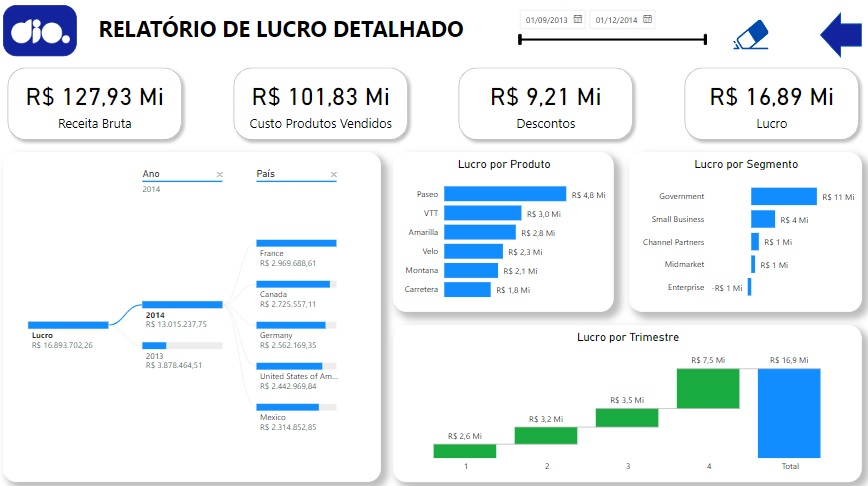

Layout of this report page (visuals, bound fields, positions):
{"tool":"powerbi","page":{"name":"Lucro","canvas":[1280,720],"ordinal":1},"visuals":[{"type":"cardVisual","title":"Receita Bruta","fields":{"Data":["_Medidas.$ Receita_Bruta"]},"box":[0,86.3,289.8,140.5],"z":0},{"type":"cardVisual","title":"Receita Bruta","fields":{"Data":["_Medidas.$ Lucro"]},"box":[990.2,86.3,289.8,140.5],"z":1000},{"type":"cardVisual","title":"Receita Bruta","fields":{"Data":["_Medidas.$ Descontos"]},"box":[660.5,86.3,289.8,140.5],"z":2000},{"type":"cardVisual","title":"Receita Bruta","fields":{"Data":["_Medidas.$ CPV"]},"box":[330.2,86.3,289.8,140.5],"z":3000},{"type":"clusteredBarChart","fields":{"Category":["Vendas.Segment"],"Y":["_Medidas.$ Lucro"]},"box":[926.3,226.8,341,234.1],"z":5000},{"type":"image","box":[10.2,11.7,108.3,74.6],"z":8000},{"type":"textbox","box":[144.9,19,560.5,61.5],"z":9000},{"type":"slicer","fields":{"Values":["Vendas.Date"]},"box":[753.7,8.8,300,80.5],"z":10000},{"type":"image","box":[1074.1,20.5,61.5,68.8],"z":11000},{"type":"shape","box":[1205.9,22,61.5,67.3],"z":12000},{"type":"decompositionTreeVisual","fields":{"Analyze":["_Medidas.$ Lucro"],"ExplainBy":["Calendario.Ano","Vendas.Country"]},"box":[10.2,226.8,553.2,482.9],"z":12001},{"type":"clusteredBarChart","fields":{"Y":["_Medidas.$ Lucro"],"Category":["Vendas.Product"]},"box":[581,226.8,323.4,234.1],"z":12002},{"type":"waterfallChart","fields":{"Category":["Calendario.Trimestre"],"Y":["_Medidas.$ Lucro"]},"box":[581,480,686.3,229.8],"z":12003}]}

Visuals, with their boxes in screenshot pixels (x1, y1, x2, y2), scaled from the page's 1280x720 canvas onto the 868x486 screenshot:
"Receita Bruta" cardVisual: bbox=[0, 58, 197, 153]
"Receita Bruta" cardVisual: bbox=[671, 58, 867, 153]
"Receita Bruta" cardVisual: bbox=[448, 58, 644, 153]
"Receita Bruta" cardVisual: bbox=[224, 58, 420, 153]
clusteredBarChart - Vendas.Segment x _Medidas.$ Lucro: bbox=[628, 153, 859, 311]
image: bbox=[7, 8, 80, 58]
textbox: bbox=[98, 13, 478, 54]
slicer - Vendas.Date: bbox=[511, 6, 715, 60]
image: bbox=[728, 14, 770, 60]
shape: bbox=[818, 15, 859, 60]
decompositionTreeVisual - _Medidas.$ Lucro x Calendario.Ano: bbox=[7, 153, 382, 479]
clusteredBarChart - _Medidas.$ Lucro x Vendas.Product: bbox=[394, 153, 613, 311]
waterfallChart - Calendario.Trimestre x _Medidas.$ Lucro: bbox=[394, 324, 859, 479]
